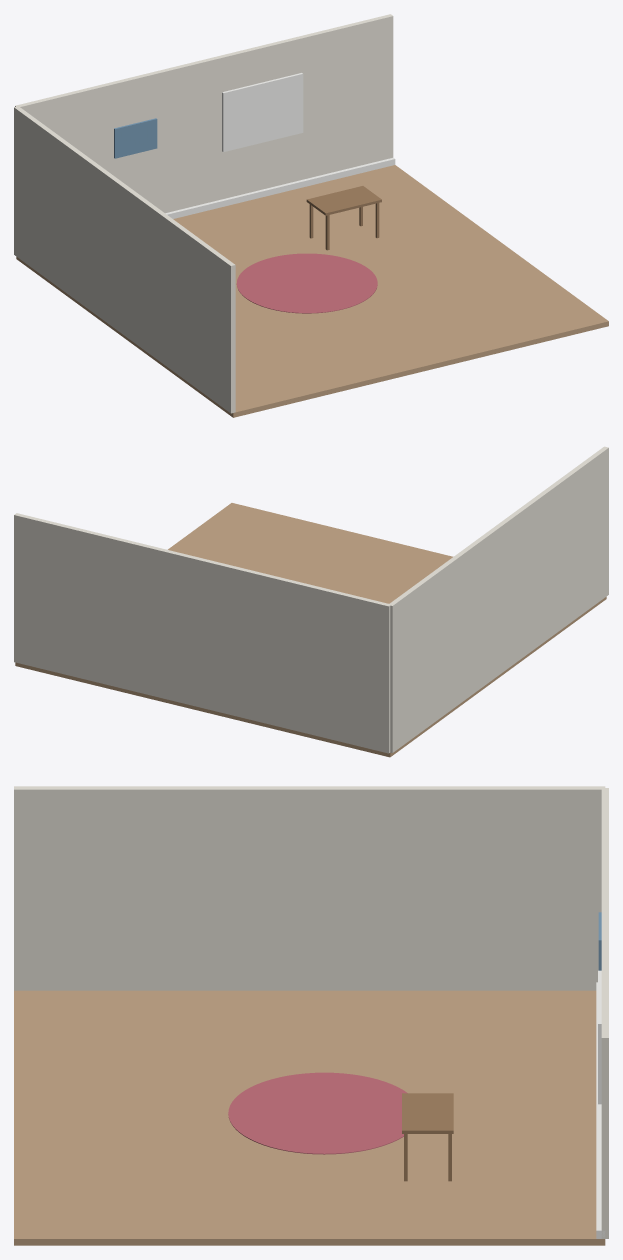
The model's file is room.glb.
The picture shows the model from 3 angles, top to bottom: view 1: azimuth 30°, elevation 25°; view 2: azimuth 150°, elevation 25°; view 3: azimuth 270°, elevation 25°; orthographic projection. The views are drawn at different scales.
Parts seen in each view (by area): view 1: floor, back_wall, left_wall, rug, window_frame, baseboard, frame_picture, table_top; view 2: back_wall, left_wall, floor; view 3: floor, left_wall, rug, back_wall, table_top, baseboard.
Part boxes in pixels (bbox=[...]): floor: bbox=[16, 165, 608, 417]; back_wall: bbox=[15, 14, 393, 213]; left_wall: bbox=[14, 107, 235, 413]; rug: bbox=[236, 253, 377, 313]; window_frame: bbox=[222, 73, 303, 151]; baseboard: bbox=[165, 157, 395, 218]; frame_picture: bbox=[114, 118, 157, 158]; table_top: bbox=[306, 186, 381, 215]; back_wall: bbox=[14, 513, 390, 753]; left_wall: bbox=[388, 446, 608, 752]; floor: bbox=[15, 503, 606, 757]; floor: bbox=[14, 990, 605, 1245]; left_wall: bbox=[14, 786, 605, 990]; rug: bbox=[228, 1072, 407, 1154]; back_wall: bbox=[601, 788, 608, 1238]; table_top: bbox=[402, 1093, 453, 1133]; baseboard: bbox=[596, 982, 605, 1238].
Size of the model in its own units: 8.05 by 3.1 by 8.05.
